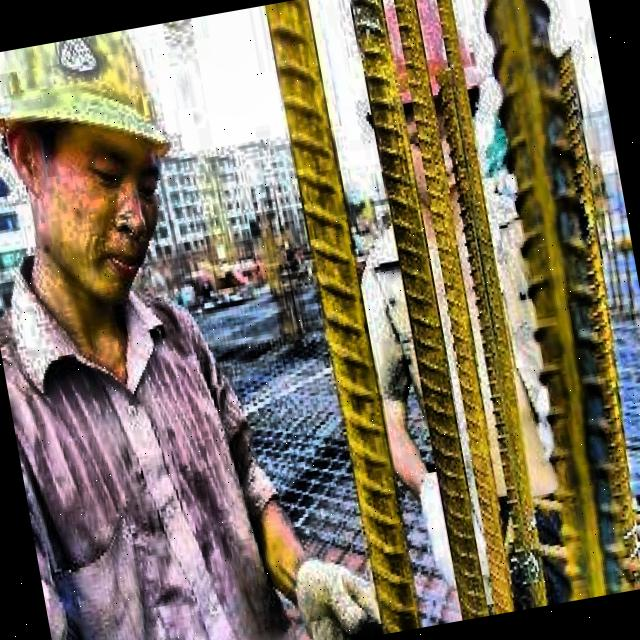helmet: (0, 27, 193, 315), (346, 0, 498, 220)
